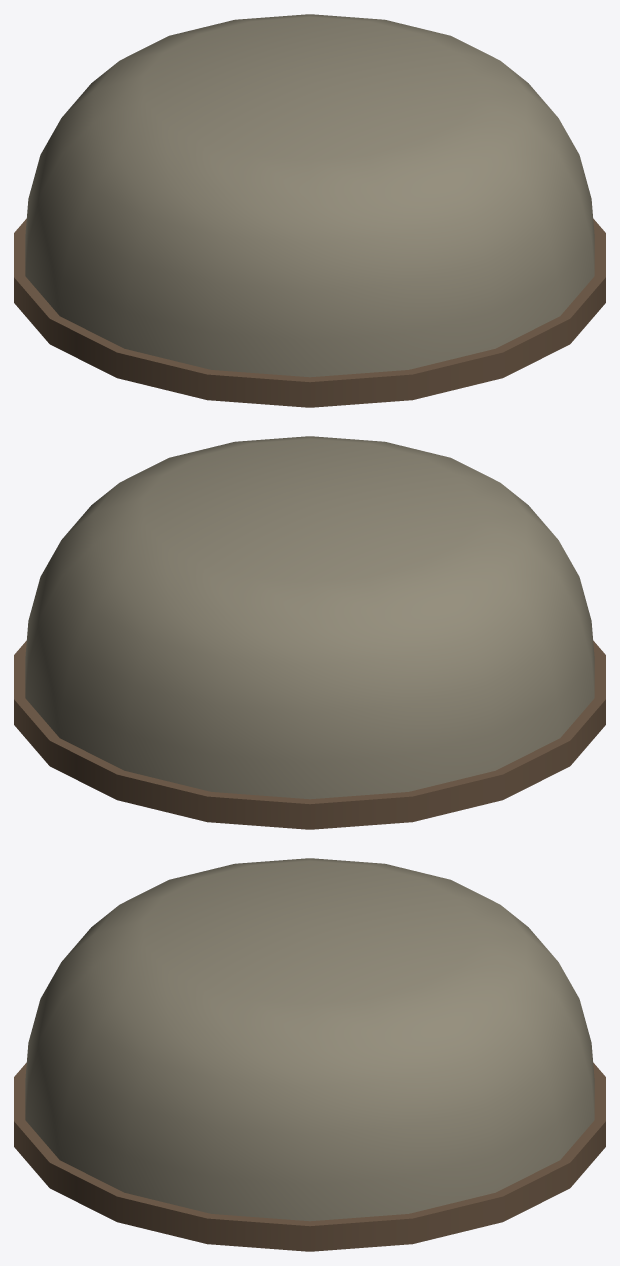
The model's file is daifuku.obj.
3 views of the same model, one above another, from view 1: azimuth 30°, elevation 25°; view 2: azimuth 150°, elevation 25°; view 3: azimuth 270°, elevation 25° (orthographic).
Parts seen in each view (by area): view 1: daifuku; view 2: daifuku; view 3: daifuku.
Part boxes in pixels (box(x1,y1,x2,y2)): daifuku: box(14, 14, 605, 407); daifuku: box(14, 436, 605, 829); daifuku: box(14, 858, 605, 1251).
Bounding box in the file's own units: 1.7 × 0.62 × 1.67.
